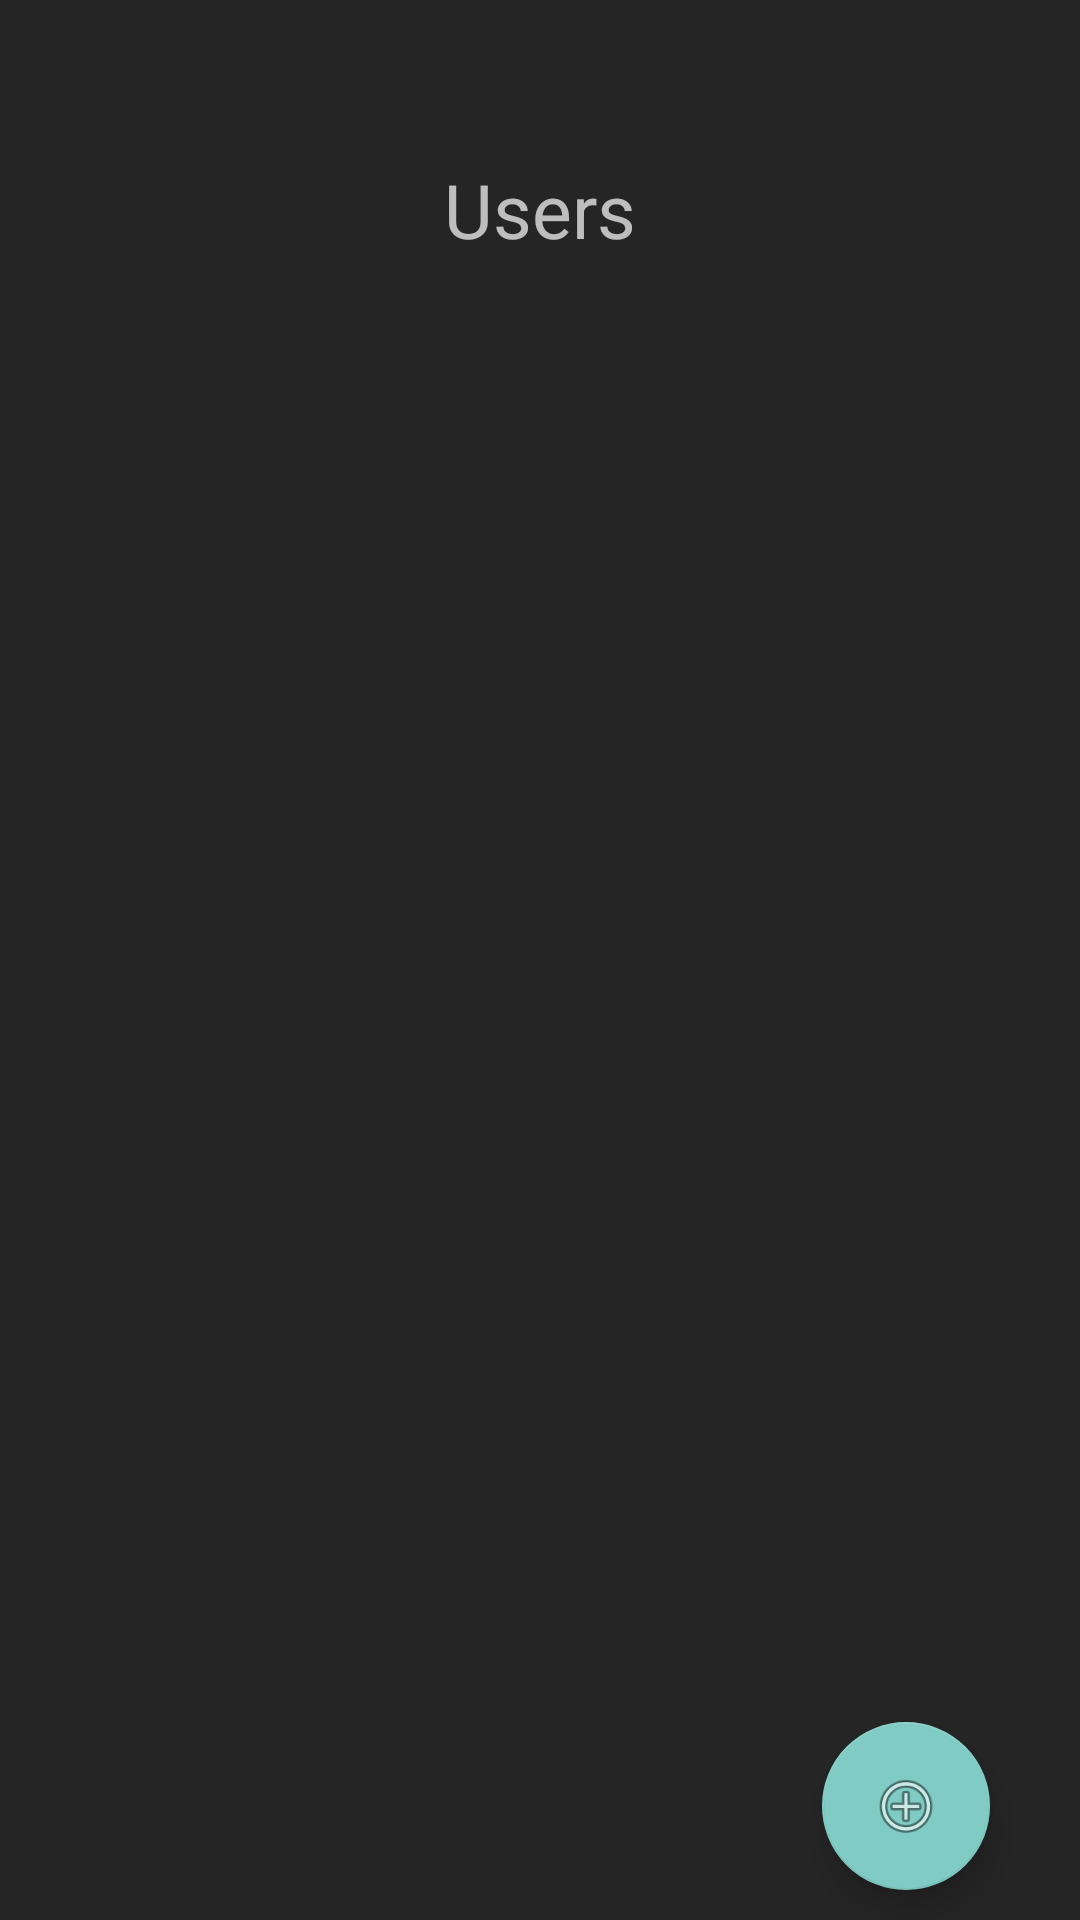

Where to tap for icons on this 1080px x 1920px app screen, as [x,y]:
add: [906,1806]
